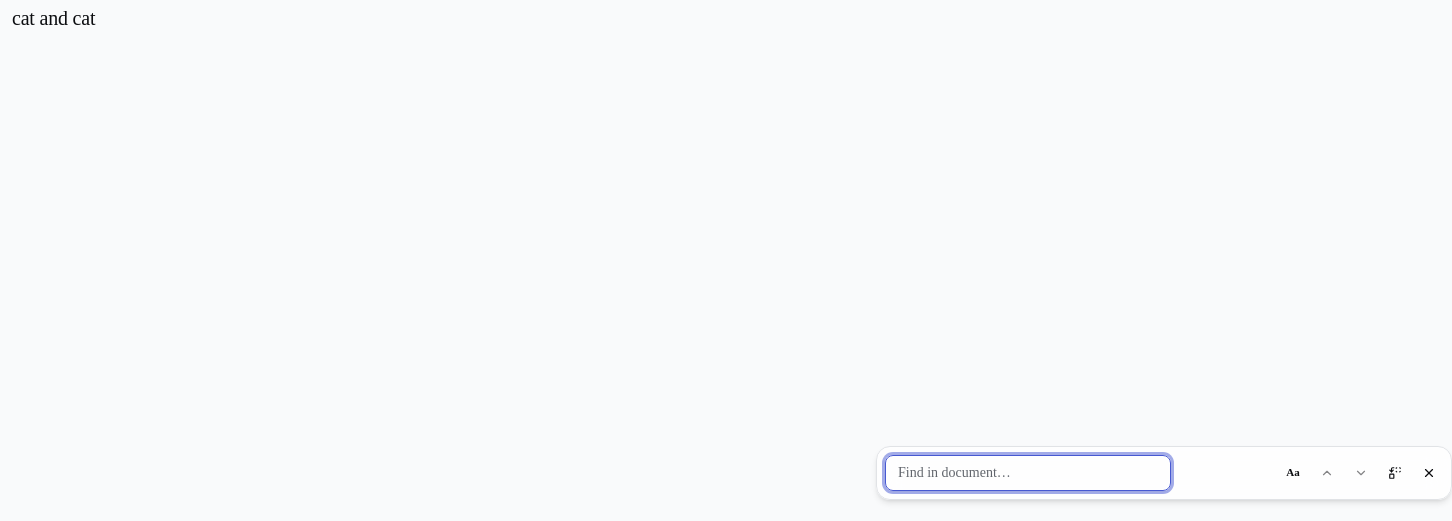
it: closing › closes with the X button, clears the highlights and restores focus
Expected: the element named "find and replace" is shown, [876, 446, 1451, 500]
Type "cat" into the field with placeholder "Find in document…" at (1028, 472), box [885, 454, 1171, 490]
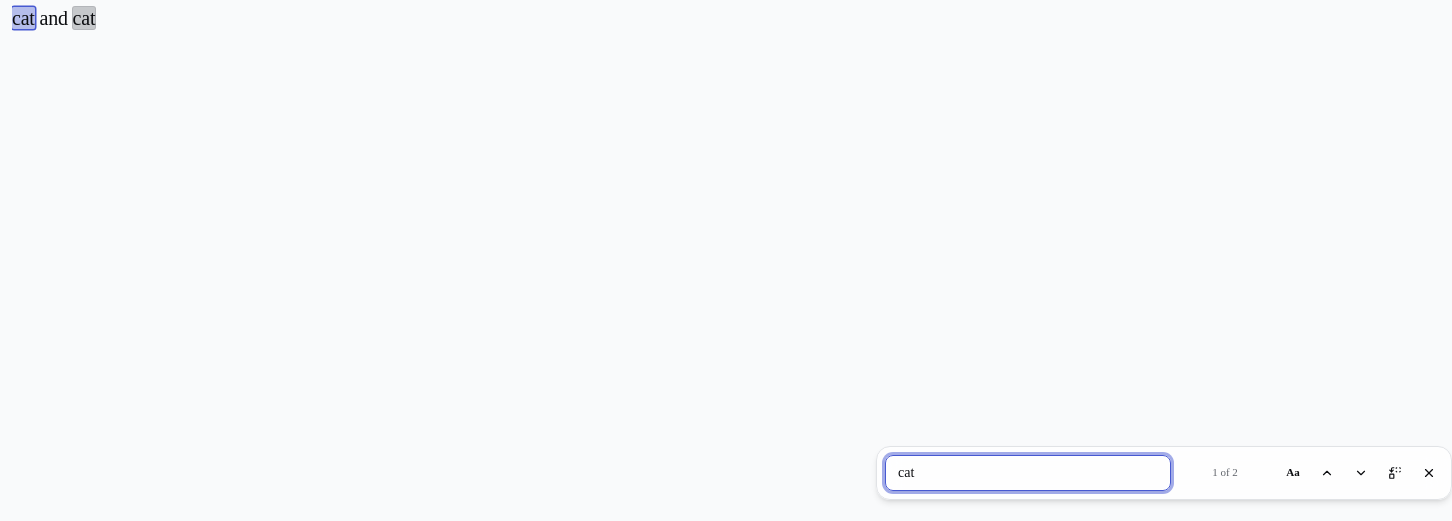
Expected: the text "1 of 2" is shown, [1212, 466, 1238, 478]
Click the button named "close find and replace" at (1429, 472), box [1415, 458, 1443, 486]
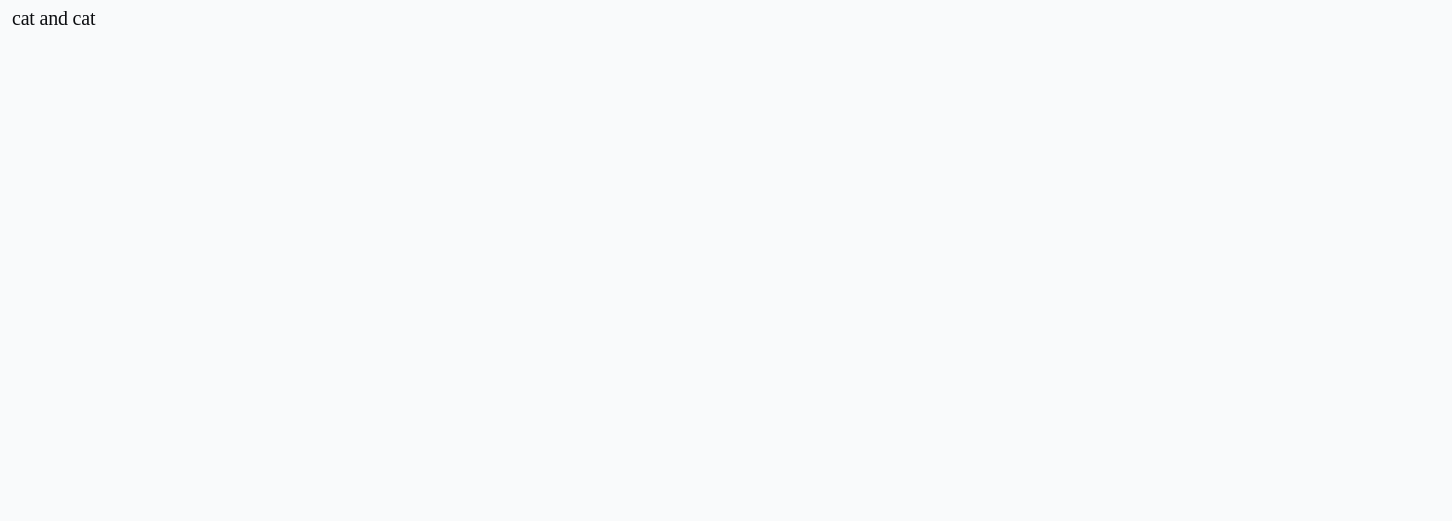
Expected: no text boxes with class "find-replace-match" are shown
